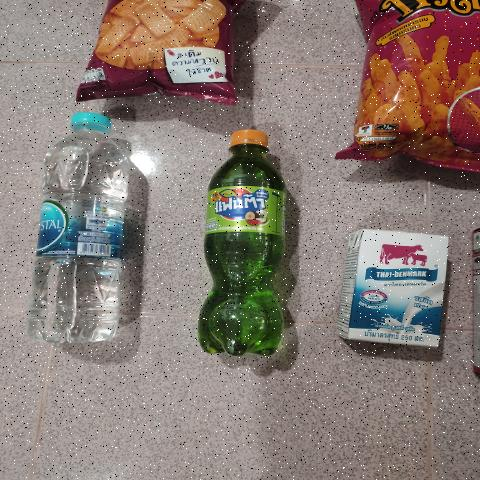crystal: (33, 105, 142, 354)
fanta_green: (195, 126, 292, 364)
thai_denmark: (349, 228, 451, 358)
